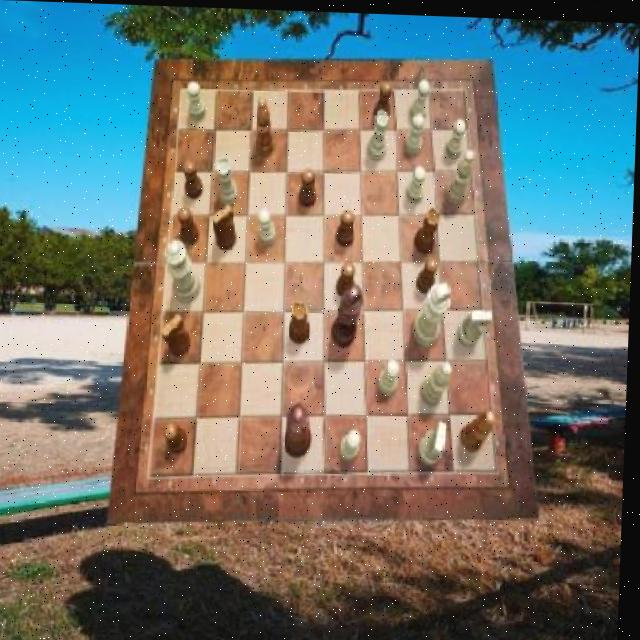bishop: (463, 406, 499, 450), (256, 94, 277, 156)
black-bishop: (333, 280, 366, 345)
black-king: (162, 313, 194, 356), (213, 202, 239, 249)
black-knight: (179, 205, 203, 244), (183, 159, 205, 198), (165, 420, 190, 454), (418, 254, 440, 292), (374, 79, 393, 121), (338, 207, 357, 245), (300, 166, 318, 205), (339, 260, 358, 296)
black-pawn: (287, 400, 316, 457)
black-queen: (416, 205, 443, 252), (290, 299, 314, 343)
black-rook: (447, 146, 476, 202), (424, 357, 455, 404)
white-bishop: (415, 279, 454, 345)
white-king: (460, 304, 496, 344), (421, 417, 449, 462)
white-knight: (411, 77, 432, 120), (447, 116, 467, 157), (188, 79, 209, 118), (381, 356, 402, 393), (407, 161, 427, 199), (407, 110, 425, 152), (259, 206, 278, 245), (342, 427, 364, 460)
white-pawn: (165, 239, 204, 302)
white-queen: (217, 156, 242, 206), (368, 108, 390, 159)
